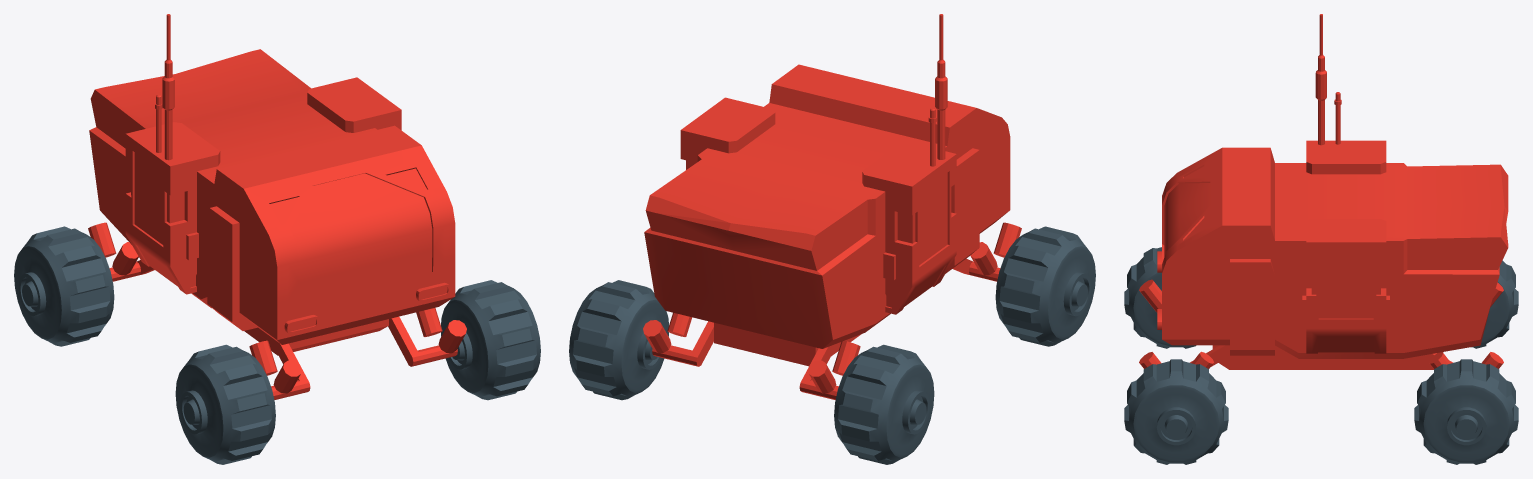
The model's file is rover_red.glb.
3 views of the same model, side by side, from view 1: azimuth 30°, elevation 25°; view 2: azimuth 150°, elevation 25°; view 3: azimuth 270°, elevation 25° (orthographic). The views are drawn at different scales.
Parts seen in each view (by area): view 1: Rover_1, Wheel_4.002, Wheel_4.001, Wheel_5; view 2: Rover_1, Wheel_4.001, Wheel_4.002, Wheel_1.002; view 3: Rover_1, Wheel_1.002, Wheel_5, Wheel_4.001, Wheel_4.002.
Part boxes in pixels (x1,y1,x2,y2): Rover_1: [88, 14, 466, 399]; Wheel_4.002: [14, 226, 114, 346]; Wheel_4.001: [175, 344, 275, 464]; Wheel_5: [441, 280, 540, 400]; Rover_1: [643, 14, 1021, 399]; Wheel_4.001: [995, 226, 1095, 346]; Wheel_4.002: [834, 344, 934, 464]; Wheel_1.002: [569, 280, 668, 400]; Rover_1: [1139, 14, 1508, 369]; Wheel_1.002: [1414, 359, 1518, 464]; Wheel_5: [1124, 359, 1228, 464]; Wheel_4.001: [1124, 247, 1196, 348]; Wheel_4.002: [1471, 260, 1518, 348].
Size of the model in its own units: 1.15 by 1.22 by 1.29.
